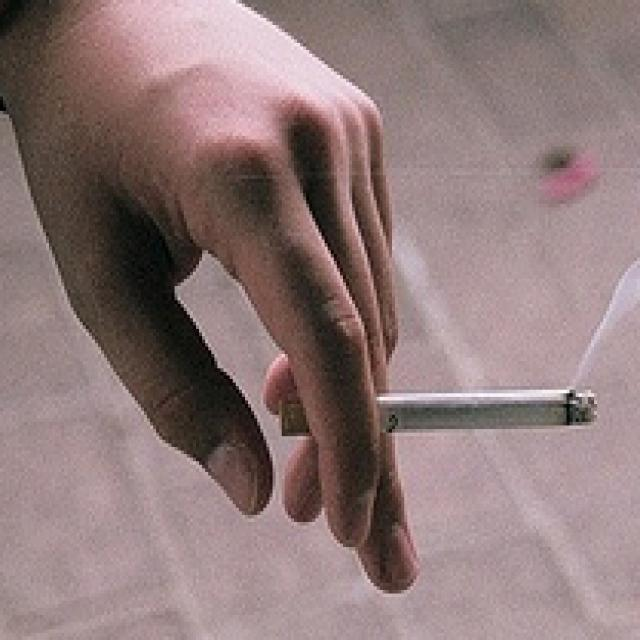smoking: (279, 386, 598, 438)
